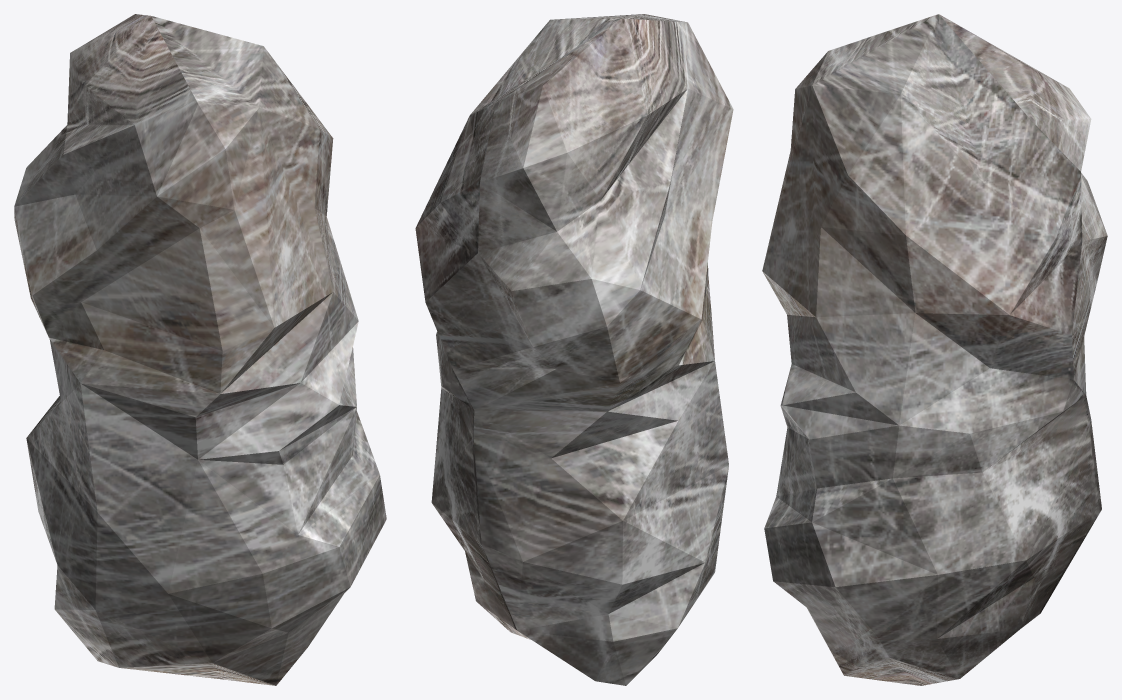
Rendered from bg_lut_lutomb_sw01b_sm_old.FBX.
The picture shows the model from 3 angles, left to right: view 1: azimuth 30°, elevation 25°; view 2: azimuth 150°, elevation 25°; view 3: azimuth 270°, elevation 25°; orthographic projection. The views are drawn at different scales.
Visible parts, largest first — view 1: bg_lut_lutomb_sw01b_sm_old; view 2: bg_lut_lutomb_sw01b_sm_old; view 3: bg_lut_lutomb_sw01b_sm_old.
Part boxes in pixels (<box>): bg_lut_lutomb_sw01b_sm_old: <box>14,14,386,685</box>; bg_lut_lutomb_sw01b_sm_old: <box>415,14,733,685</box>; bg_lut_lutomb_sw01b_sm_old: <box>762,14,1107,685</box>.
Size of the model in its own units: 27.11 by 60.78 by 29.54.
